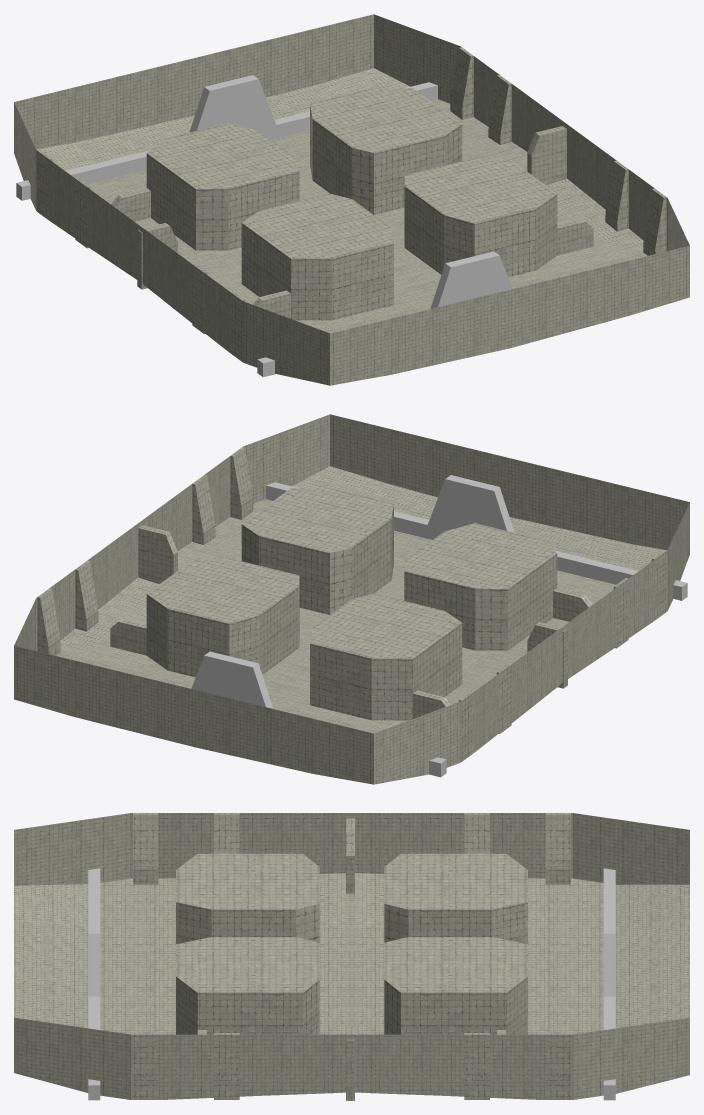
File: SM_TheSamePlace_14_Block_00.fbx
3 renders of one model, top to bottom at view 1: azimuth 30°, elevation 25°; view 2: azimuth 150°, elevation 25°; view 3: azimuth 270°, elevation 25°, orthographic. The views are drawn at different scales.
Parts seen in each view (by area): view 1: SM_TheSamePlace_14_Block_00; view 2: SM_TheSamePlace_14_Block_00; view 3: SM_TheSamePlace_14_Block_00.
Part boxes in pixels (<box>): SM_TheSamePlace_14_Block_00: <box>14,14,689,385</box>; SM_TheSamePlace_14_Block_00: <box>14,414,689,784</box>; SM_TheSamePlace_14_Block_00: <box>14,813,689,1100</box>.
Size of the model in its own units: 4141 by 598 by 5321.
